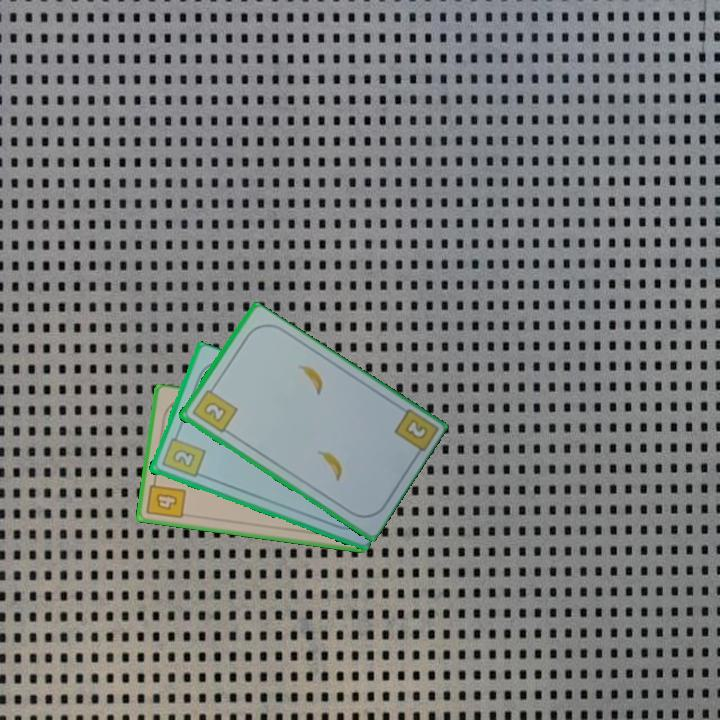2b: (188, 382, 240, 436), (158, 430, 207, 480), (401, 415, 430, 442)
4b: (143, 474, 189, 522)
